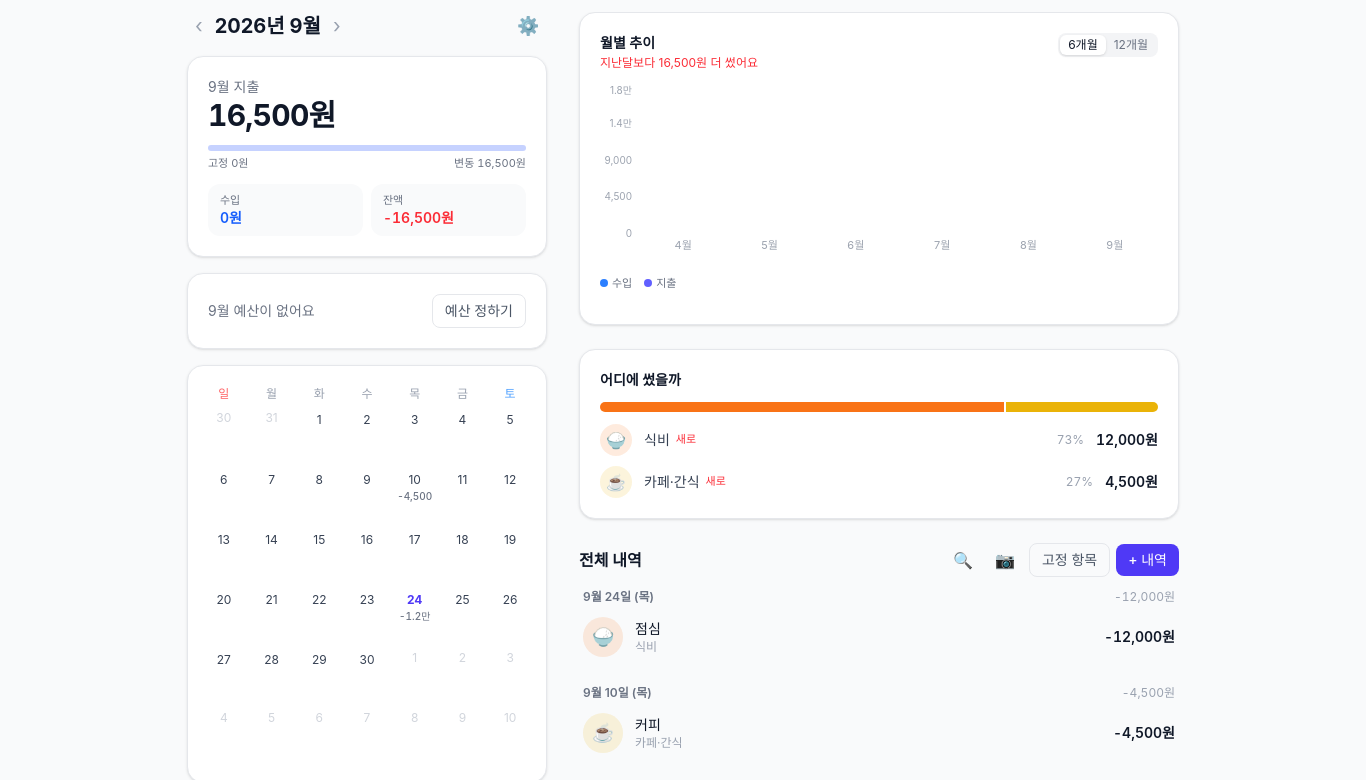
LedgerPage › 달력에서 날짜를 누르면 그날 내역만 보이고, 다시 누르면 전체로 돌아간다
Expected: the text "-1.2만" is shown, top-left (399, 610), bottom-right (430, 622)
Click the button named "9월 24일, 지출 12,000원" at [415, 614], box top-left (391, 586), bottom-right (438, 642)
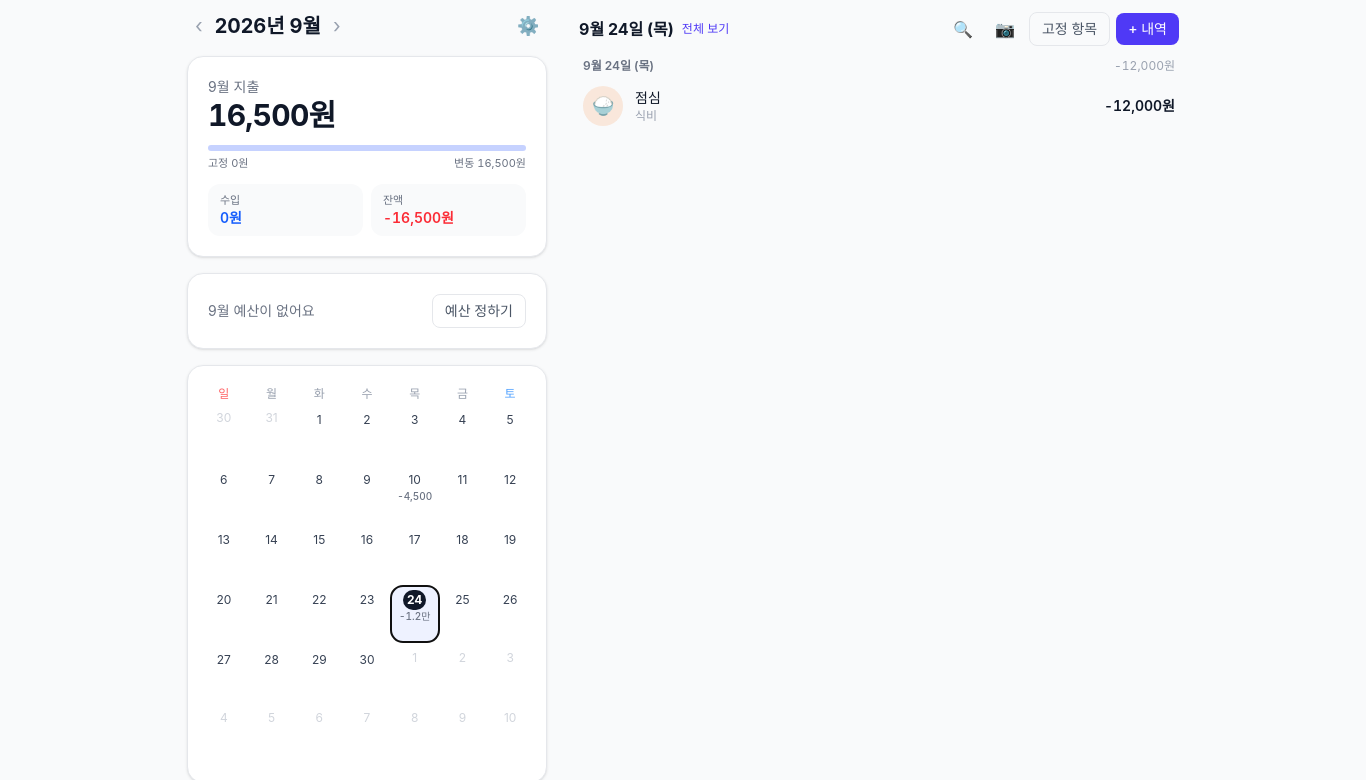
Expected: the text "점심" is shown, top-left (635, 88), bottom-right (661, 108)
Expected: the button "커피" is gone
Click the button named "9월 24일, 지출 12,000원" at [415, 614], box top-left (391, 586), bottom-right (438, 642)
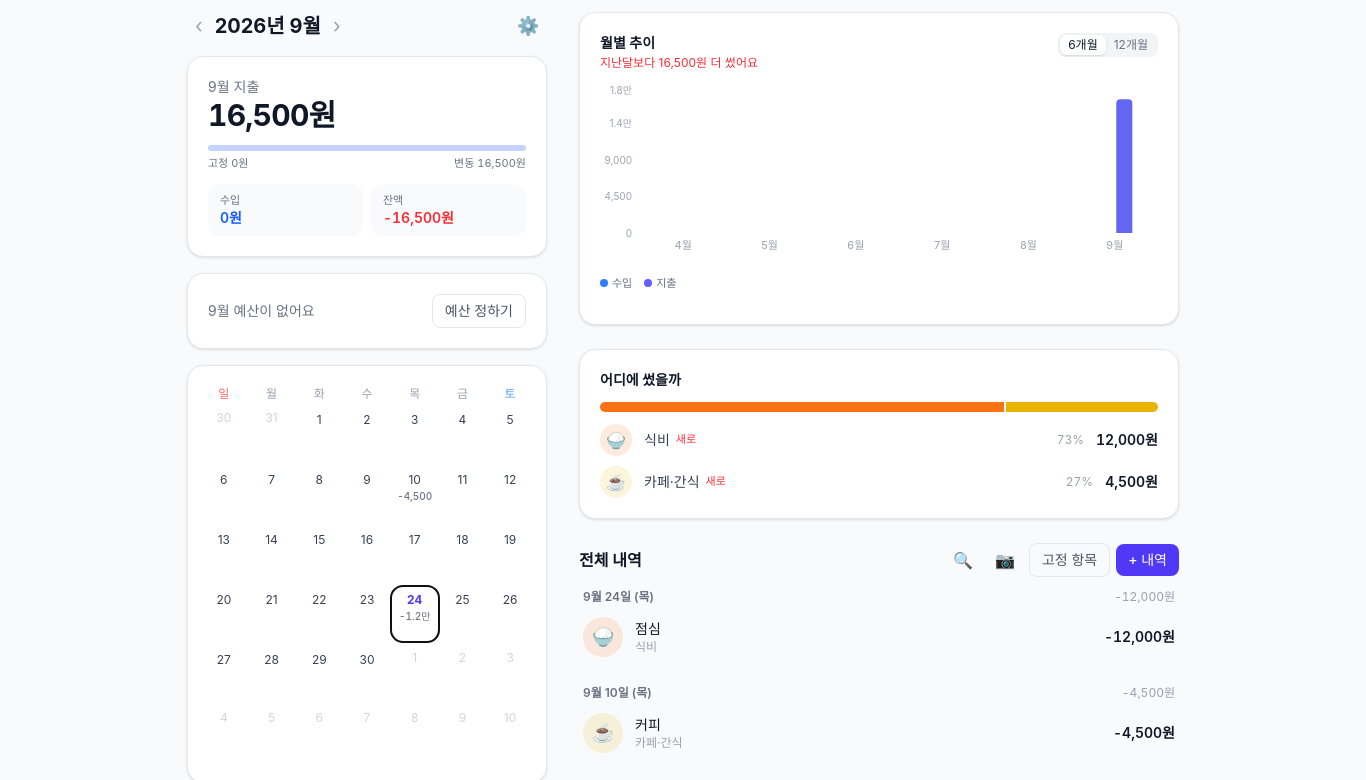
Expected: the text "커피" is shown, top-left (635, 714), bottom-right (661, 734)
